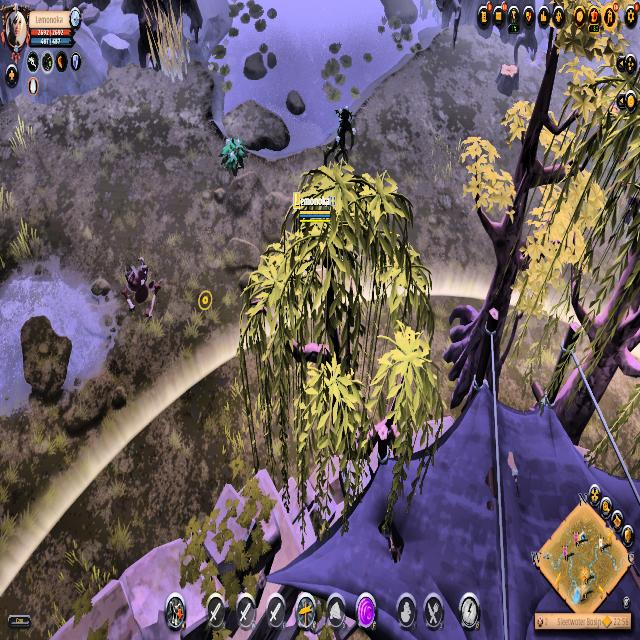fiber tier 3: (219, 135, 247, 176)
